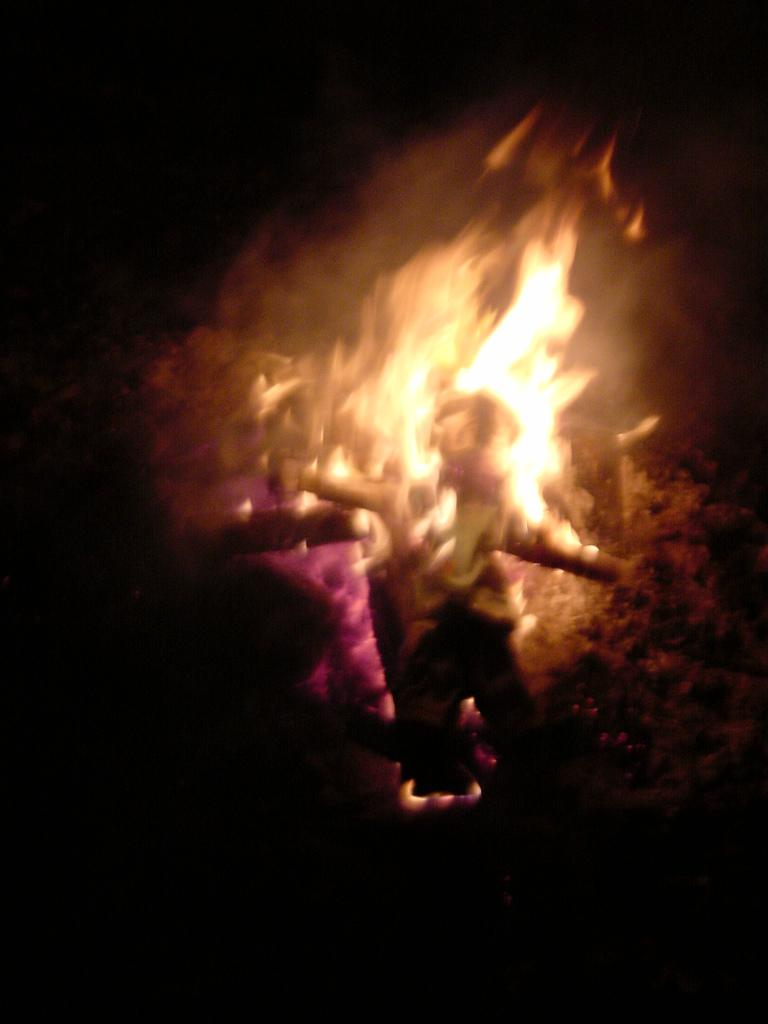fire: (492, 232, 588, 525)
